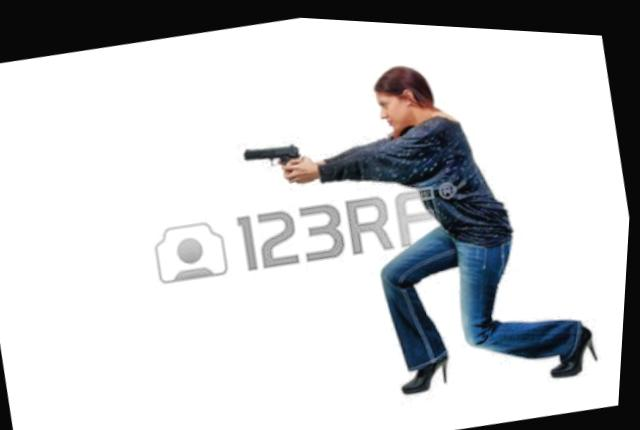pistol: (237, 132, 312, 193)
